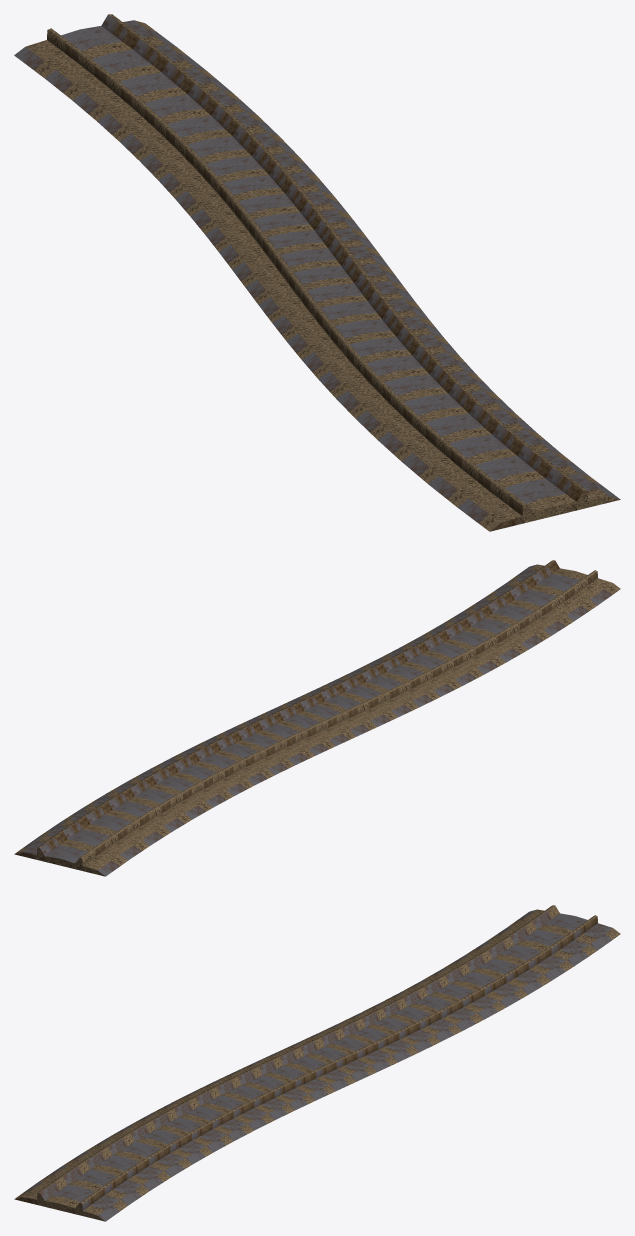
The model's file is Rail bend to right_LOD2.fbx.
3 views of the same model, one above another, from view 1: azimuth 30°, elevation 25°; view 2: azimuth 150°, elevation 25°; view 3: azimuth 330°, elevation 25° (orthographic). The views are drawn at different scales.
Parts seen in each view (by area): view 1: Rail_bend_to_right; view 2: Rail_bend_to_right; view 3: Rail_bend_to_right.
Boxes of the visible parts, x1,y1,x2,y2 form: Rail_bend_to_right: (14, 14, 620, 531); Rail_bend_to_right: (14, 560, 620, 876); Rail_bend_to_right: (14, 905, 620, 1221).
Bounding box in the file's own units: 200 × 13.15 × 800.
1 material, 1 textured.
